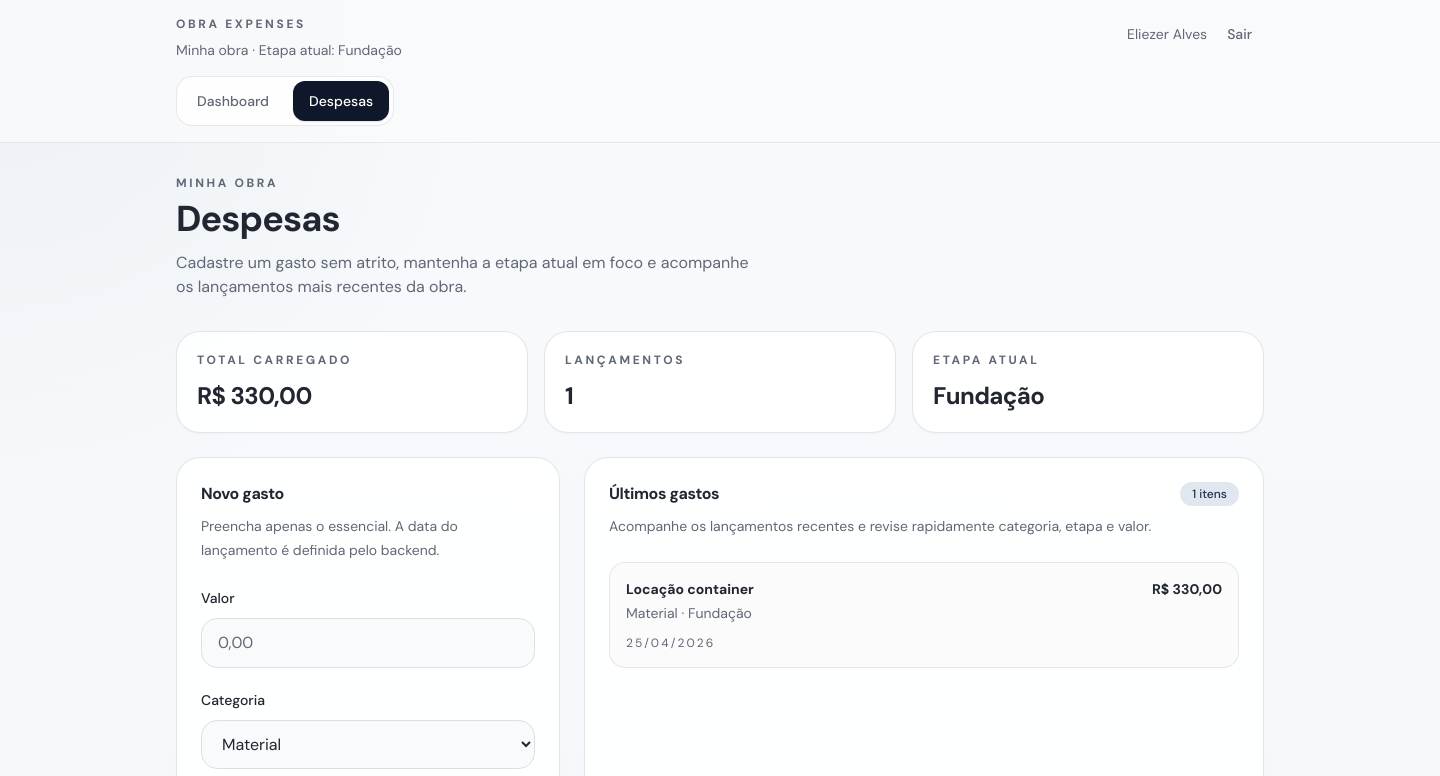
Test: ExpensesPage › requires amount before submitting
Select "Material" in the dropdown labelled "Categoria" at (368, 744), box [201, 720, 535, 769]
(page scrolled)
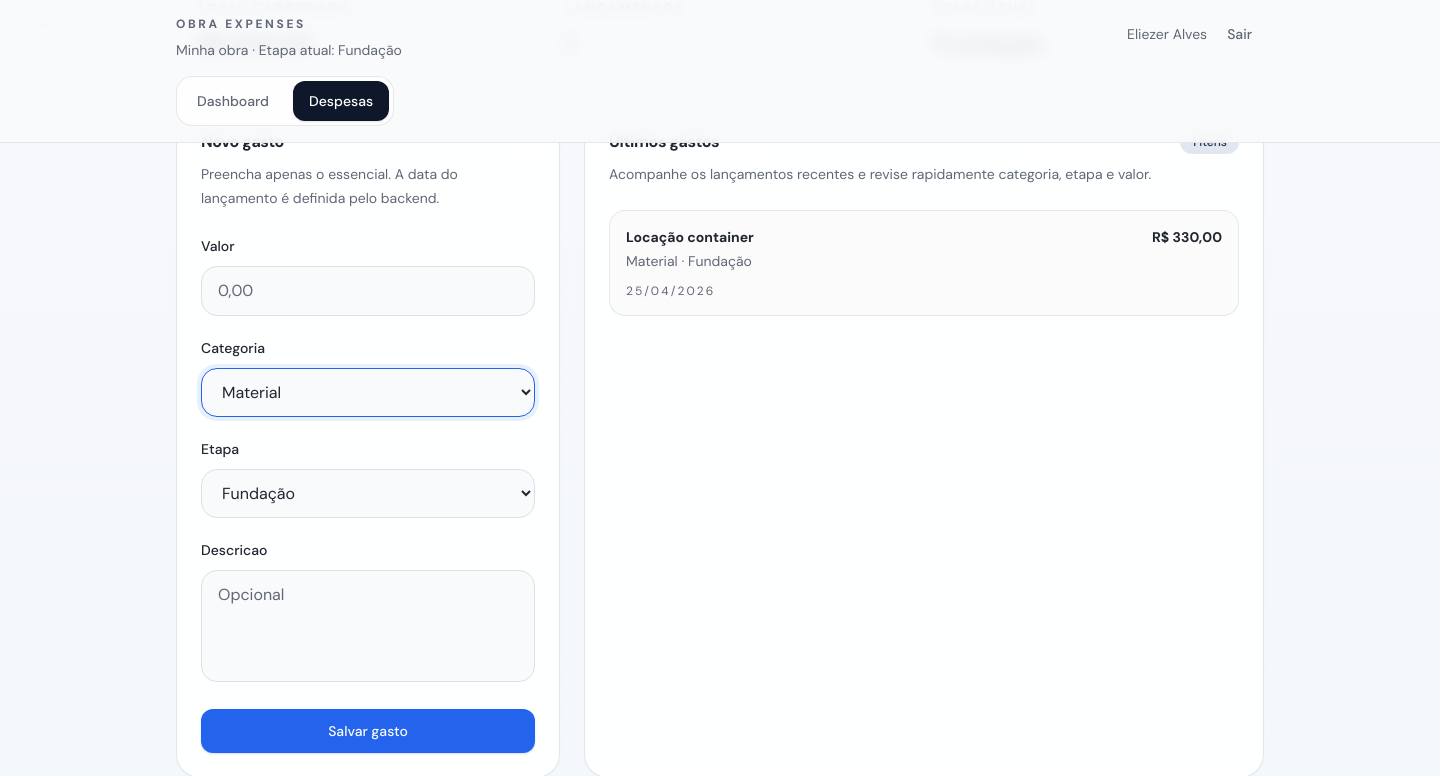
Select "Fundação" in the dropdown labelled "Etapa" at (368, 494), box [201, 469, 535, 518]
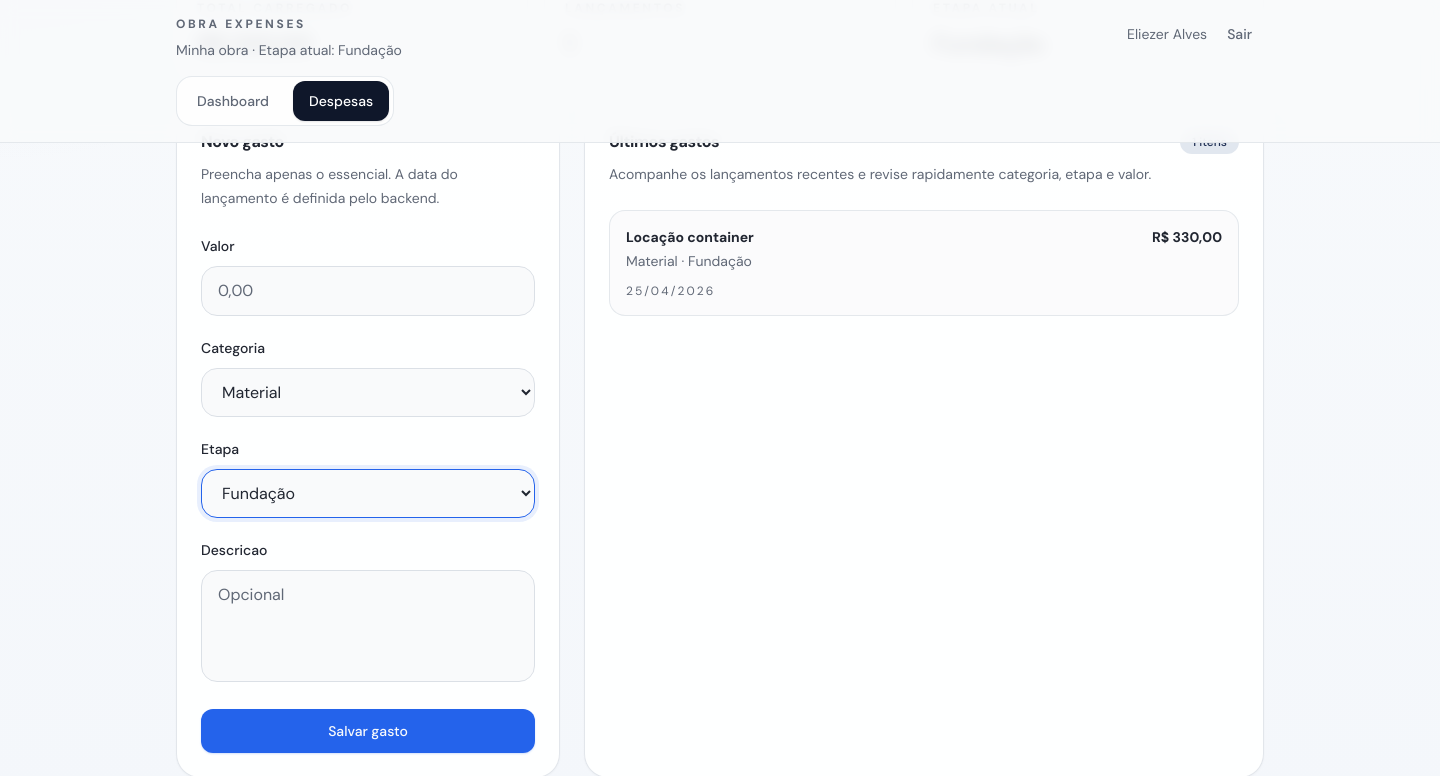
Click the button "Salvar gasto".
click(368, 731)  # box [201, 709, 535, 753]
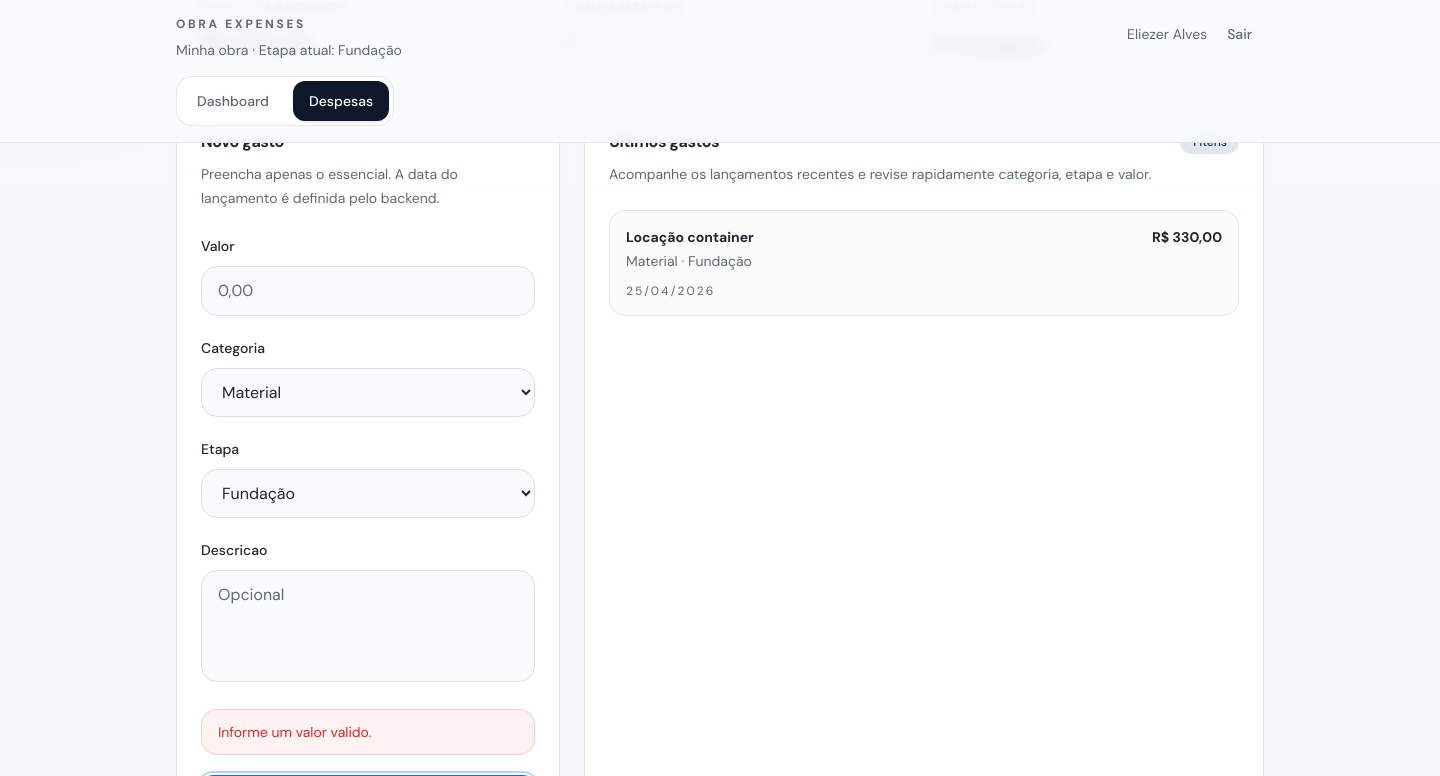
Check: the text "Informe um valor valido." is shown, box [201, 709, 535, 755]
